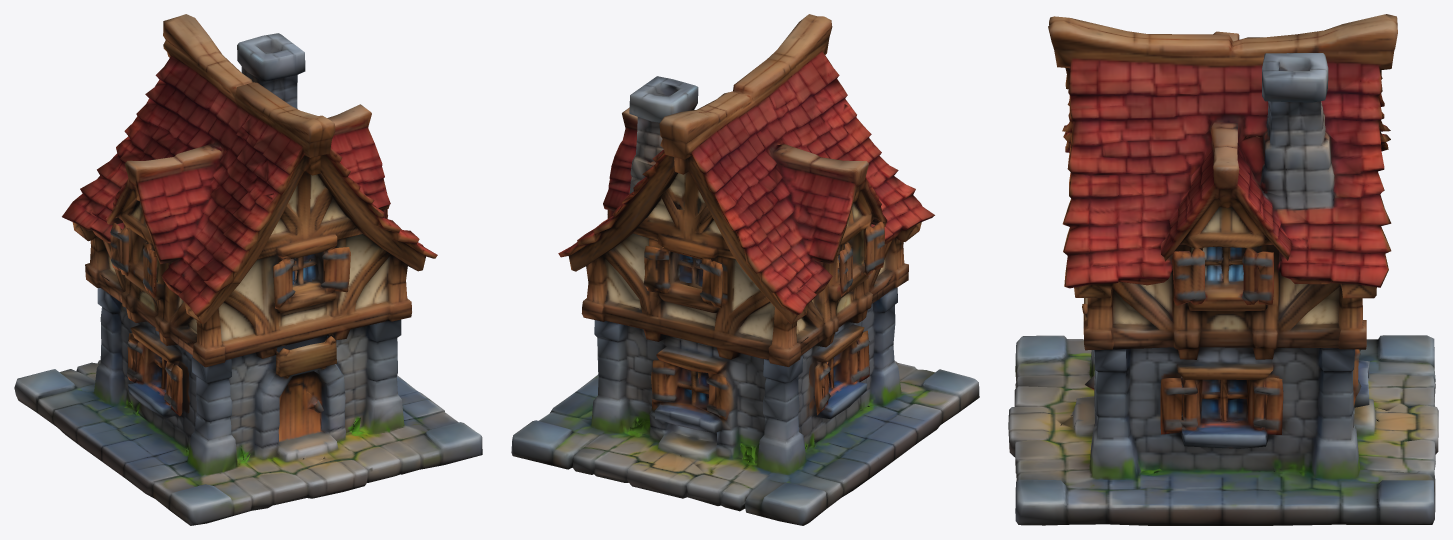
The model's file is House.fbx.
The picture shows the model from 3 angles, left to right: view 1: azimuth 30°, elevation 25°; view 2: azimuth 150°, elevation 25°; view 3: azimuth 270°, elevation 25°; orthographic projection. The views are drawn at different scales.
Visible parts, largest first — view 1: House; view 2: House; view 3: House.
Part boxes in pixels (left/top/right/bottom): House: left=14, top=14, right=482, bottom=525; House: left=511, top=14, right=979, bottom=525; House: left=1008, top=14, right=1438, bottom=525.
Bounding box in the file's own units: 0.8594 × 0.9968 × 0.9168.
